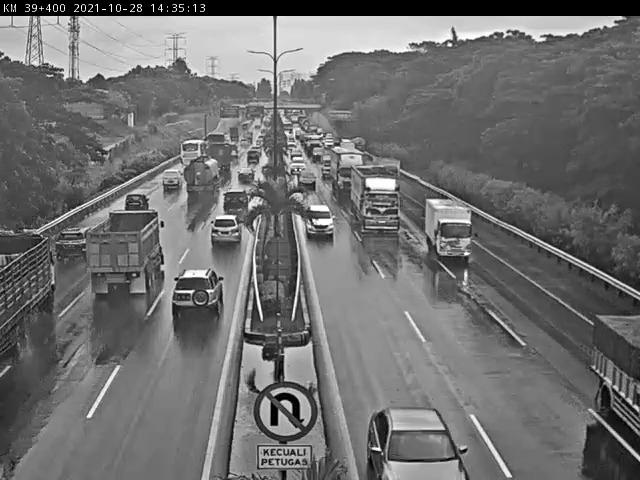big bus: (179, 137, 201, 169)
big truck: (93, 217, 153, 300), (0, 244, 46, 344), (345, 163, 402, 235), (332, 148, 365, 190), (190, 155, 218, 198)
car: (377, 402, 453, 476), (172, 281, 217, 334), (48, 235, 80, 263), (209, 222, 241, 249), (308, 199, 332, 234), (222, 193, 249, 215), (115, 195, 149, 212), (158, 171, 180, 195), (297, 168, 320, 190), (208, 129, 225, 147), (287, 160, 306, 176), (321, 155, 332, 179), (239, 168, 251, 186), (245, 150, 258, 165), (291, 148, 301, 159), (311, 148, 322, 156)
small truck: (571, 306, 640, 417), (424, 197, 472, 262), (210, 145, 234, 175)
